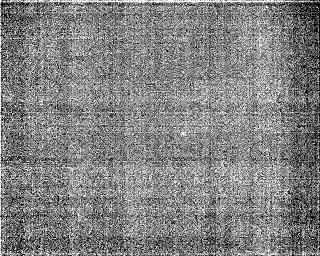AIRPLANE: (179, 129, 188, 138)
